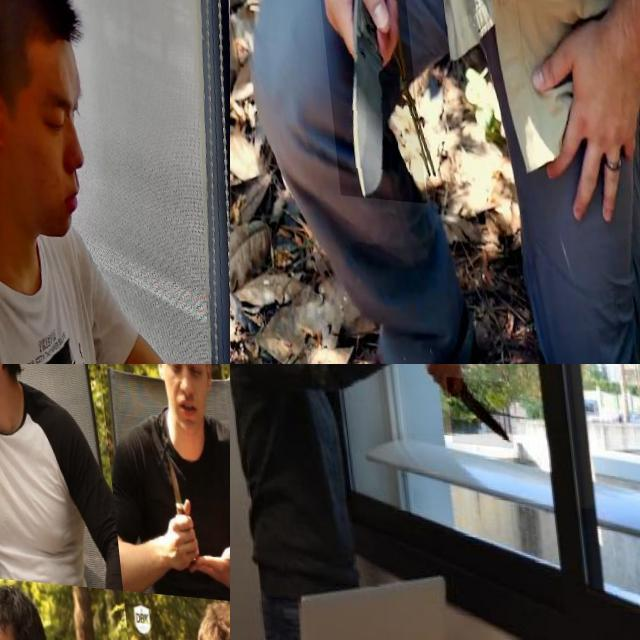-: (312, 0, 417, 198), (440, 370, 507, 441), (153, 438, 193, 541), (0, 437, 21, 522)
